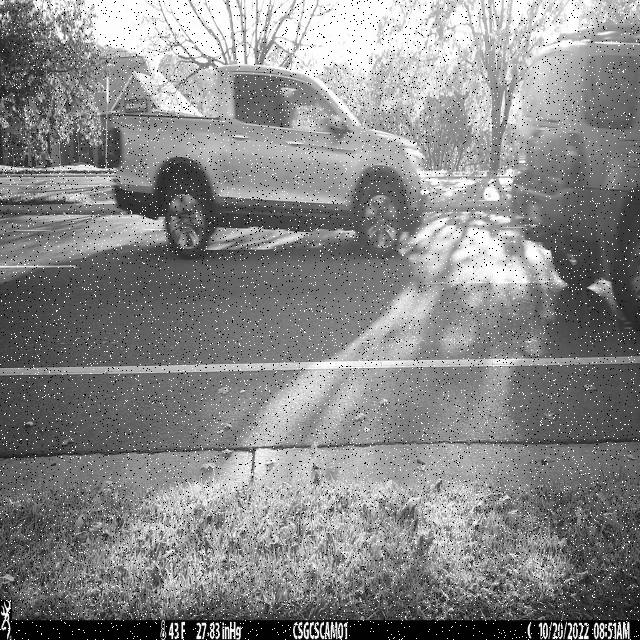Pickup: (107, 65, 431, 261)
